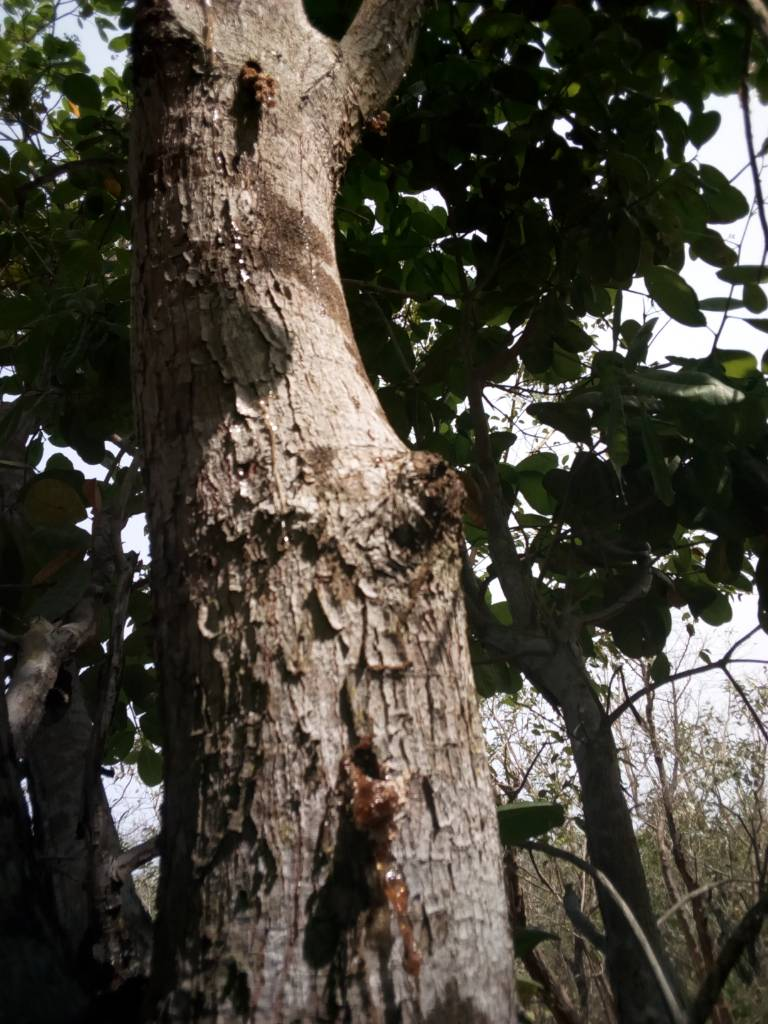Apate terebrans: (279, 707, 524, 913)
